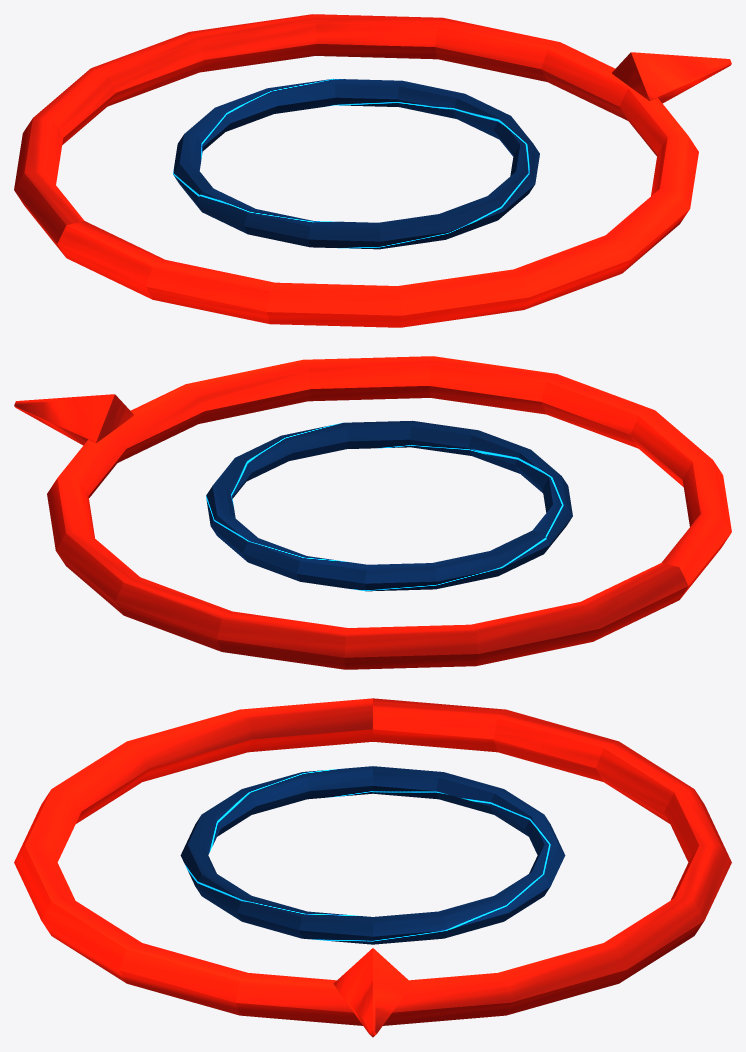
File: SM_FC_AbsorbTelegraph.fbx
The picture shows the model from 3 angles, top to bottom: view 1: azimuth 30°, elevation 25°; view 2: azimuth 150°, elevation 25°; view 3: azimuth 270°, elevation 25°; orthographic projection. The views are drawn at different scales.
Parts seen in each view (by area): view 1: SM_FC_AbsorbTelegraph; view 2: SM_FC_AbsorbTelegraph; view 3: SM_FC_AbsorbTelegraph.
Part boxes in pixels (x1=…): SM_FC_AbsorbTelegraph: x1=14, y1=14, x2=731, y2=327; SM_FC_AbsorbTelegraph: x1=14, y1=356, x2=731, y2=669; SM_FC_AbsorbTelegraph: x1=14, y1=698, x2=731, y2=1037.
Size of what is drawn, in the model's own units: 2.04 by 0.2 by 1.81.
